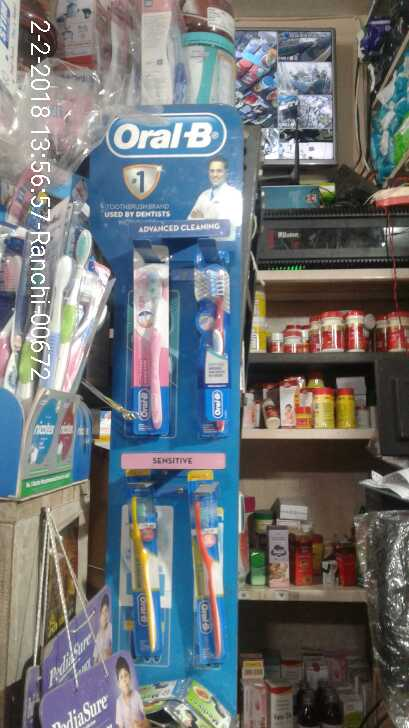oralb: (122, 497, 175, 667), (128, 268, 176, 436), (187, 489, 228, 668), (189, 270, 234, 433)
